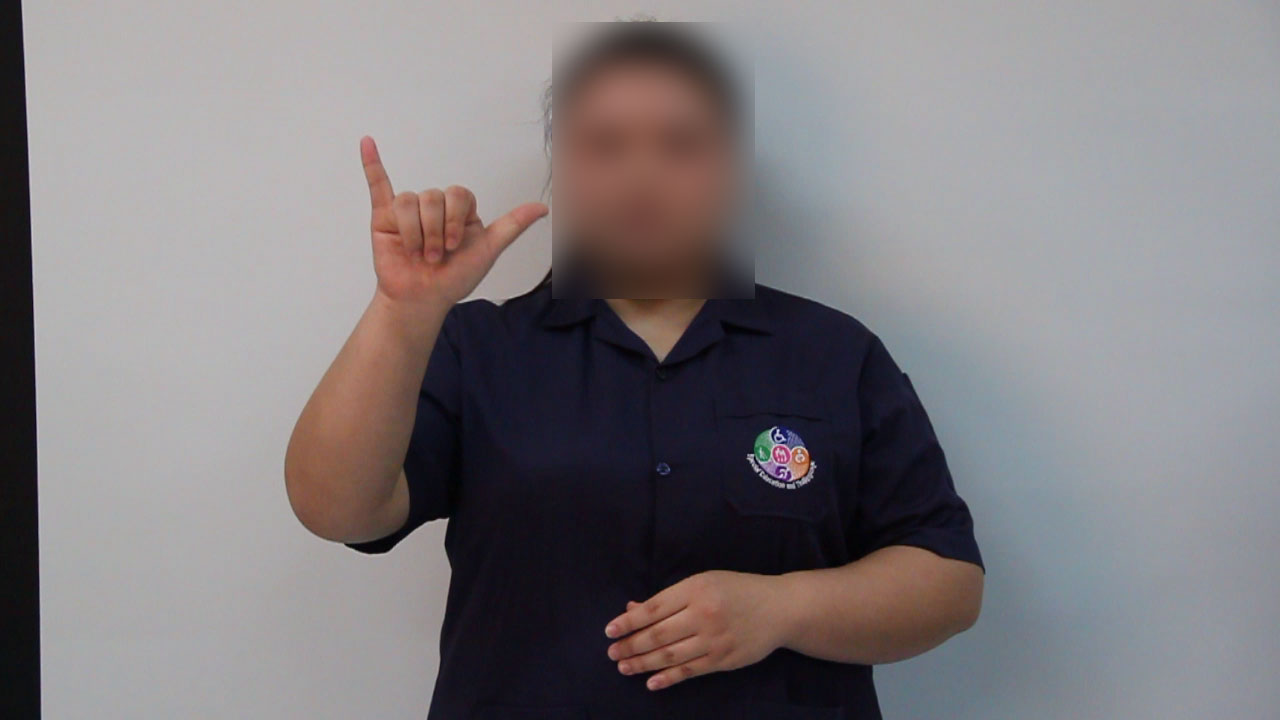yor: (337, 118, 562, 326)
